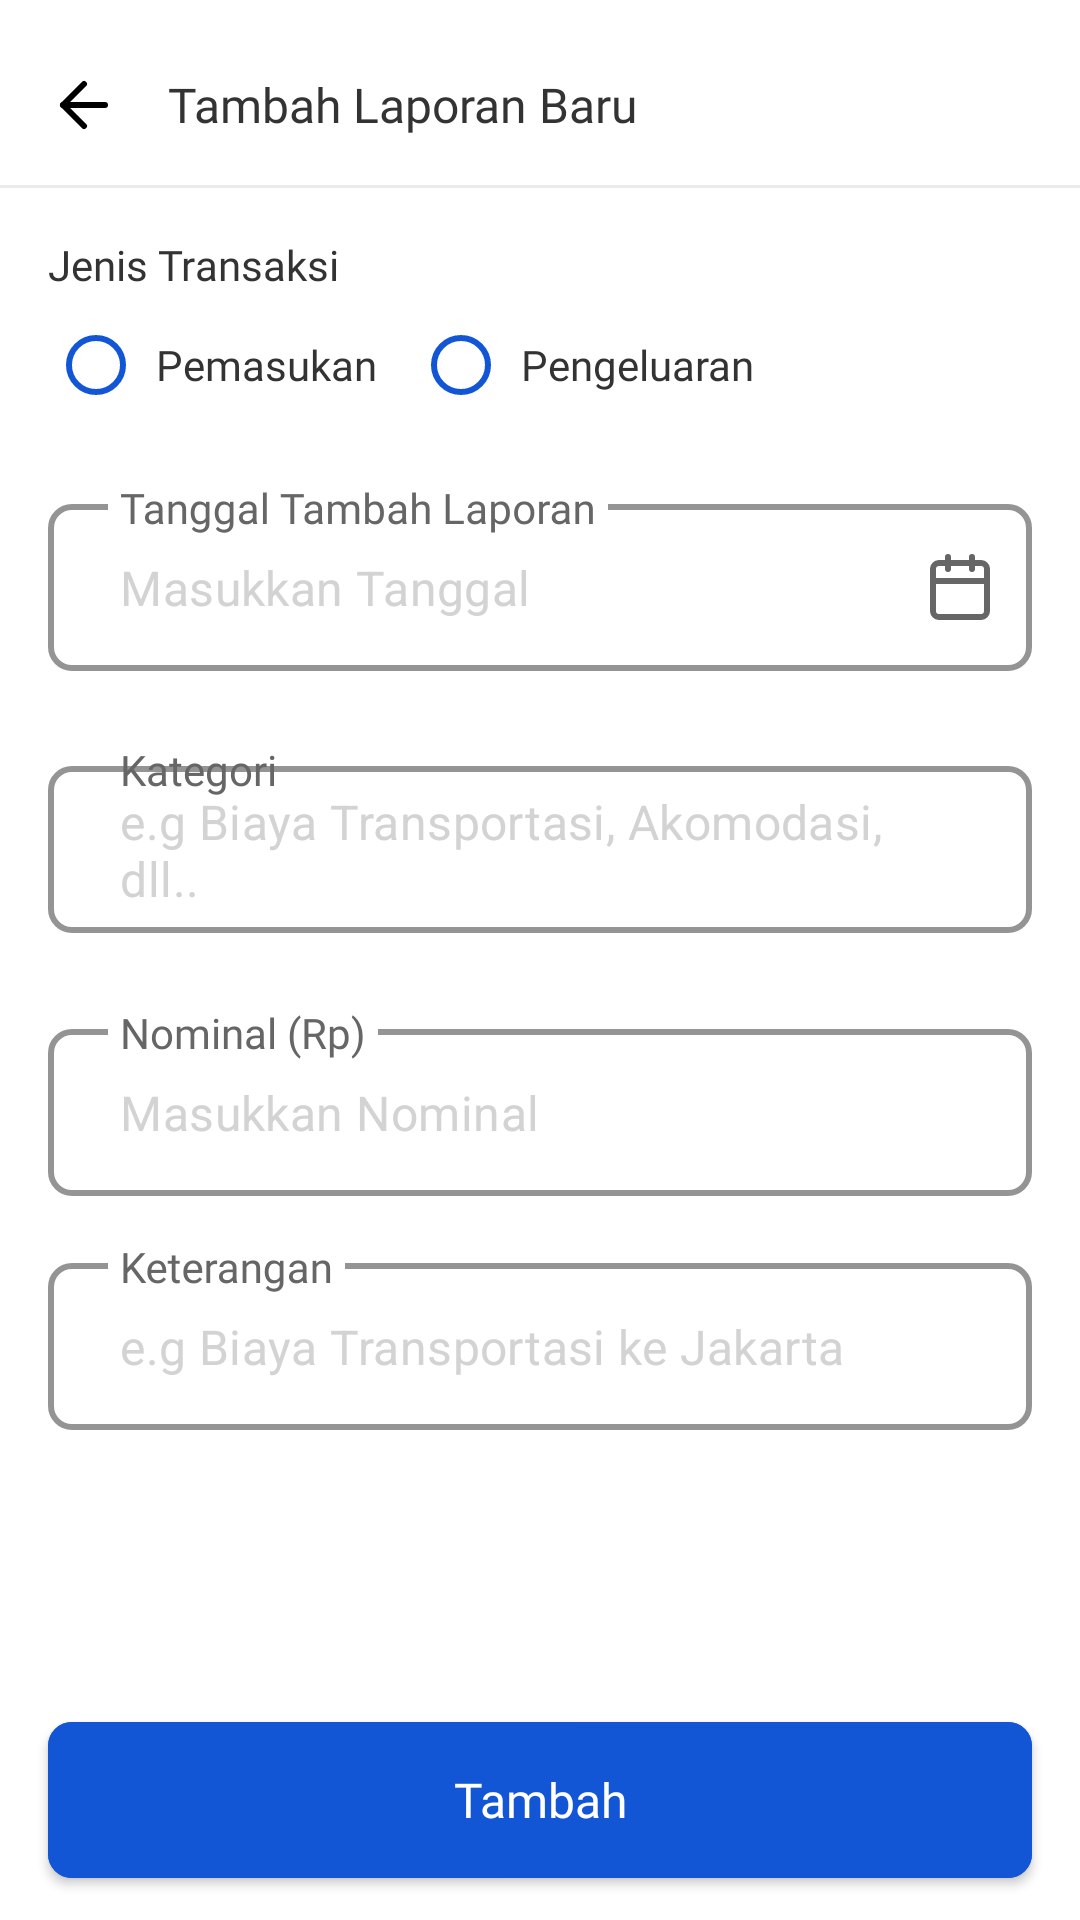

Named icons in this screenshot (1080px×1920px) and their bounding boxes, bbox=[x1, y1, x2, y2]:
back: bbox=[60, 81, 108, 129]
